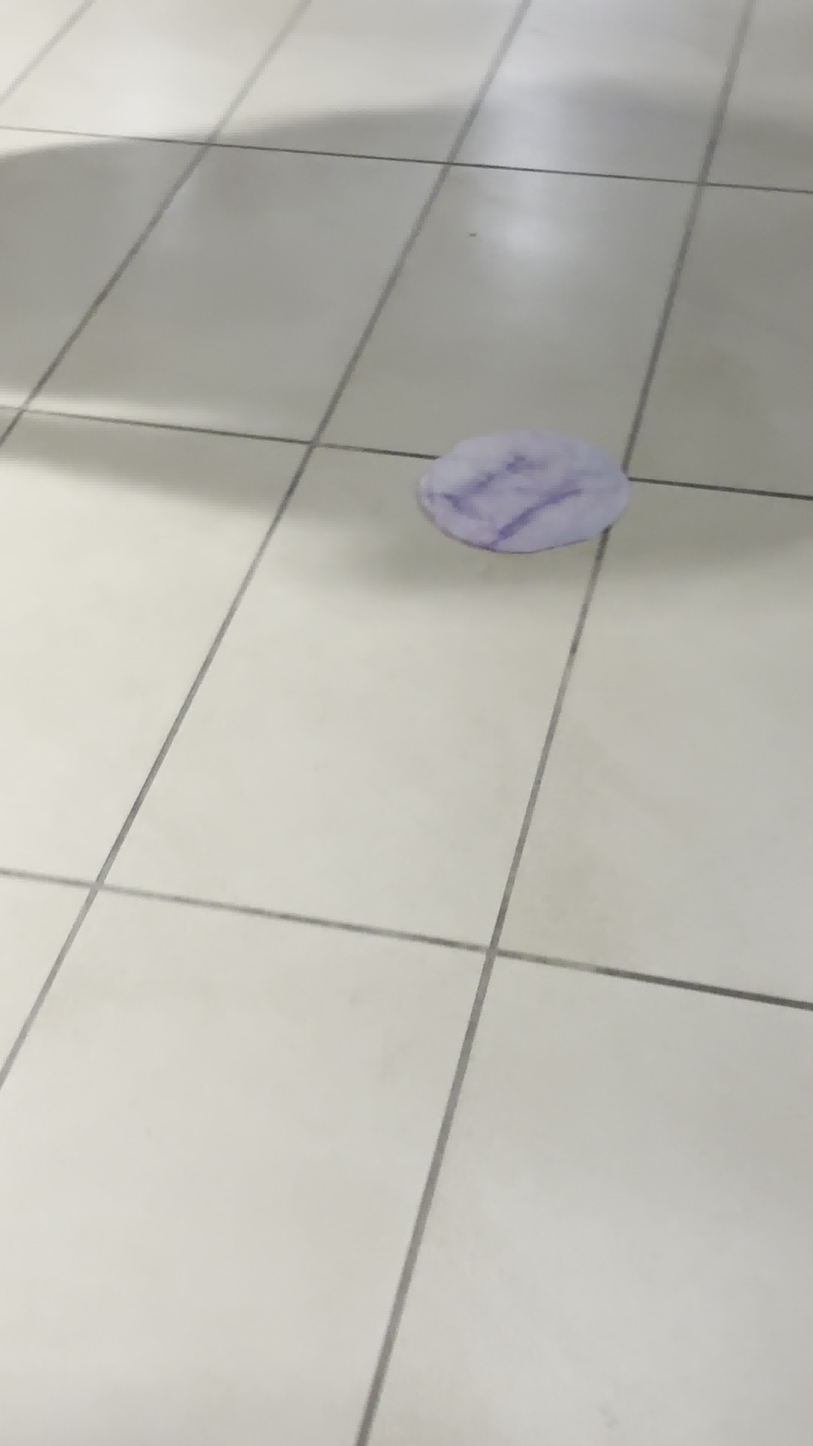Target: (414, 427, 631, 554)
